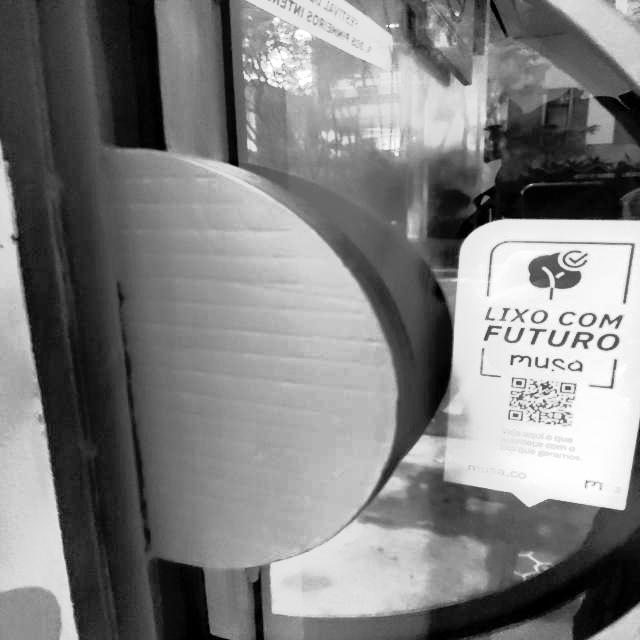qr_code: (508, 377, 577, 427)
